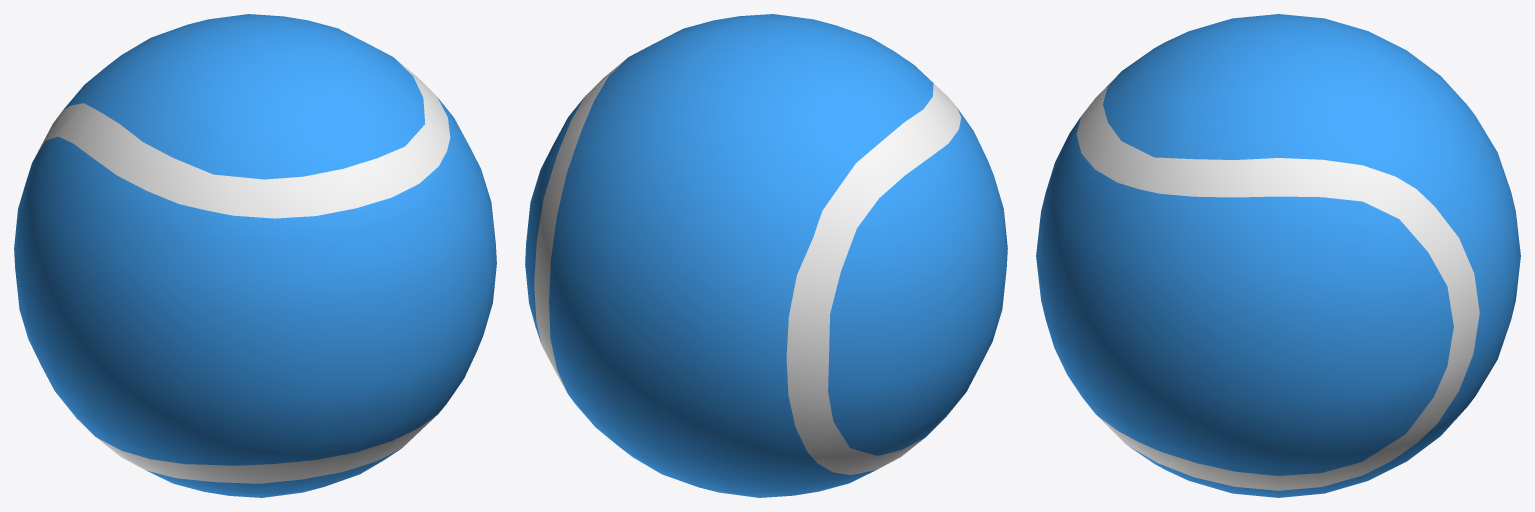
The model's file is Tennisball_Blue.fbx.
3 renders of one model, left to right at view 1: azimuth 30°, elevation 25°; view 2: azimuth 150°, elevation 25°; view 3: azimuth 270°, elevation 25°, orthographic.
Visible parts, largest first — view 1: Tennisball_Blue; view 2: Tennisball_Blue; view 3: Tennisball_Blue.
Boxes of the visible parts, x1=… form: Tennisball_Blue: x1=14, y1=14, x2=496, y2=497; Tennisball_Blue: x1=525, y1=14, x2=1007, y2=497; Tennisball_Blue: x1=1036, y1=14, x2=1520, y2=497.
Bounding box in the file's own units: 92.63 × 92.63 × 92.63.
